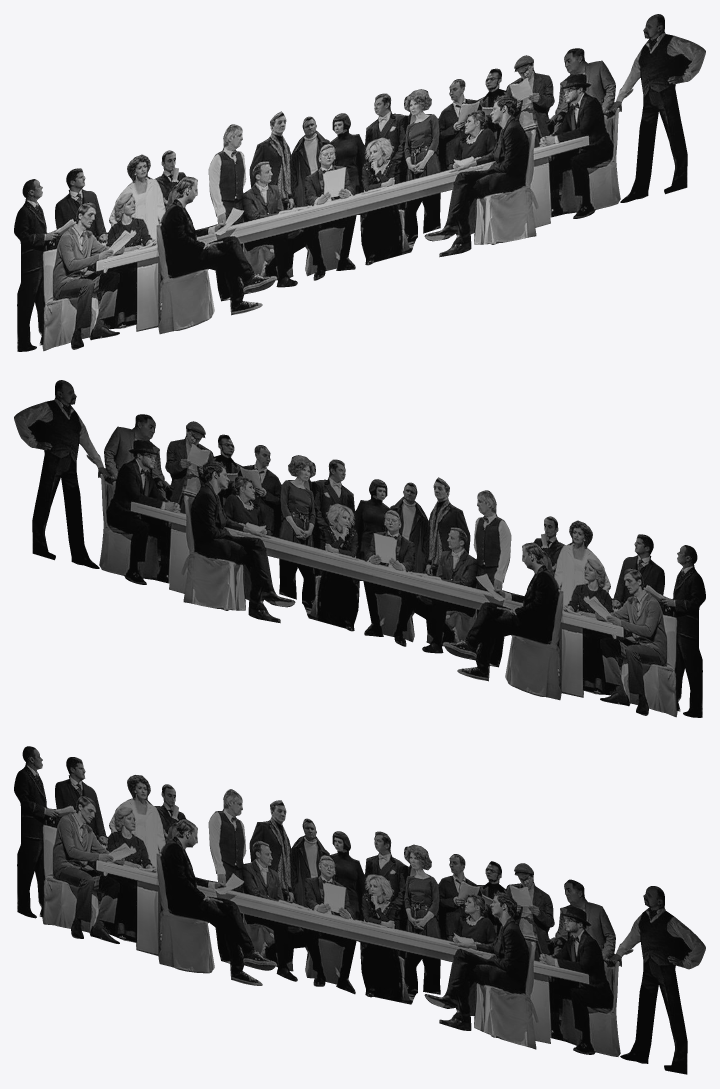
The model's file is sun-rises cut.dae.
3 renders of one model, top to bottom at view 1: azimuth 30°, elevation 25°; view 2: azimuth 150°, elevation 25°; view 3: azimuth 330°, elevation 25°, orthographic.
Visible parts, largest first — view 1: Extrude_1; view 2: Extrude_1; view 3: Extrude_1.
Part boxes in pixels (x1=…): Extrude_1: x1=14, y1=14, x2=705, y2=351; Extrude_1: x1=14, y1=380, x2=705, y2=717; Extrude_1: x1=14, y1=746, x2=705, y2=1074.
Bounding box in the file's own units: 1103 × 305 × 0.
1 material, 1 textured.
